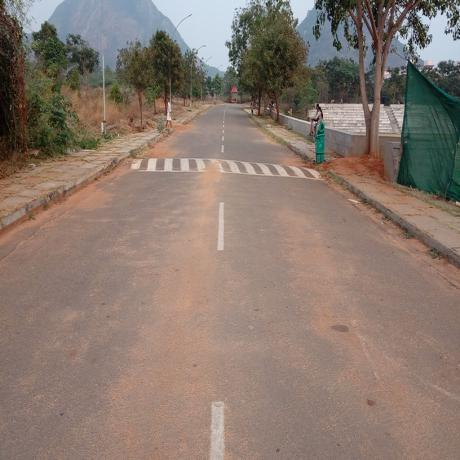Speed Bump: (125, 153, 320, 178)
